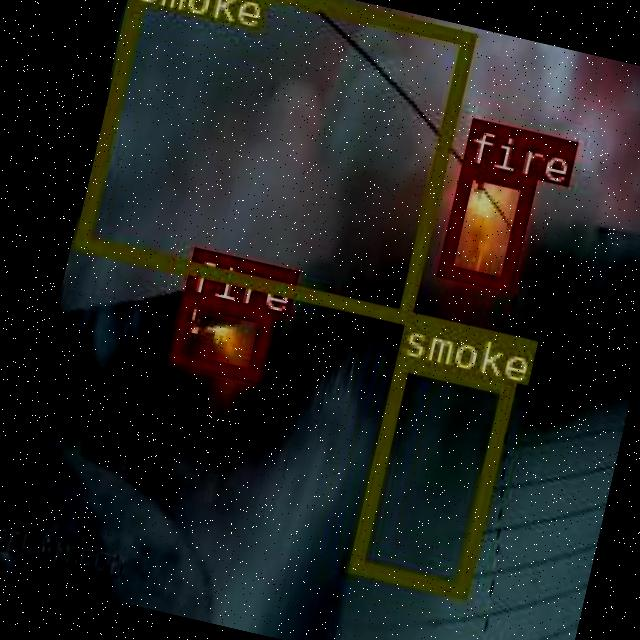fire: (436, 161, 534, 288), (166, 290, 272, 380)
smoke: (72, 0, 473, 320), (348, 353, 512, 594)
